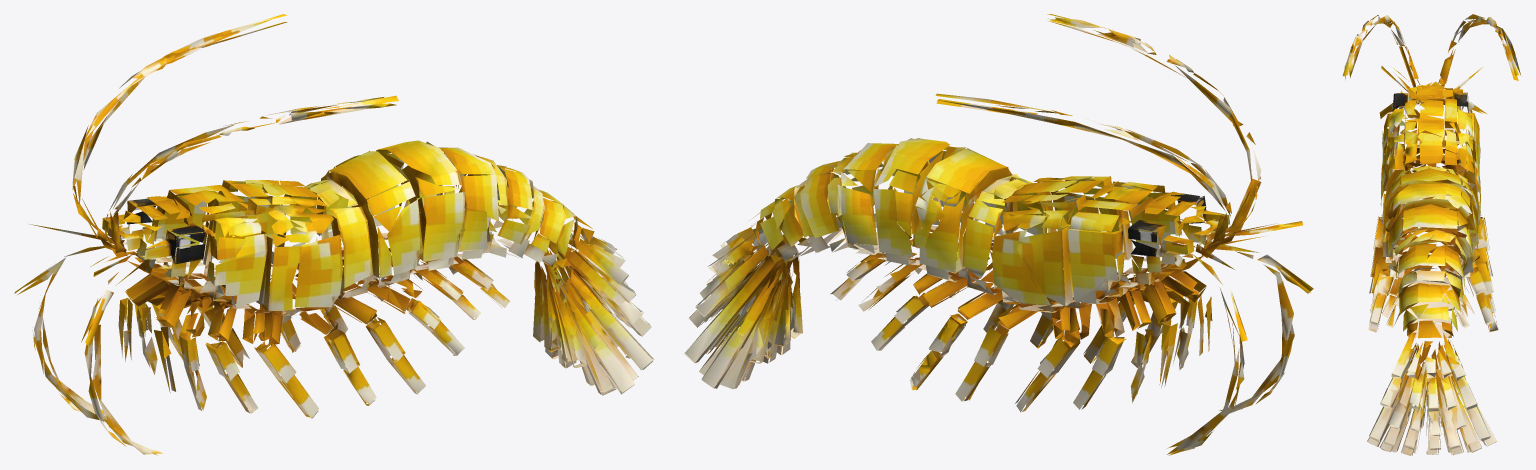
Rendered from shrimp_a.glb.
3 views of the same model, side by side, from view 1: azimuth 30°, elevation 25°; view 2: azimuth 150°, elevation 25°; view 3: azimuth 270°, elevation 25° (orthographic). The views are drawn at different scales.
Visible parts, largest first — view 1: node_0; view 2: node_0; view 3: node_0.
Boxes of the visible parts, box(x1,y1,x2,y2) form: node_0: box(14, 14, 654, 455); node_0: box(683, 14, 1313, 455); node_0: box(1342, 14, 1520, 455).
Bounding box in the file's own units: 1.09 × 0.6775 × 0.3772.
Materials: 1 (1 with a texture image).
